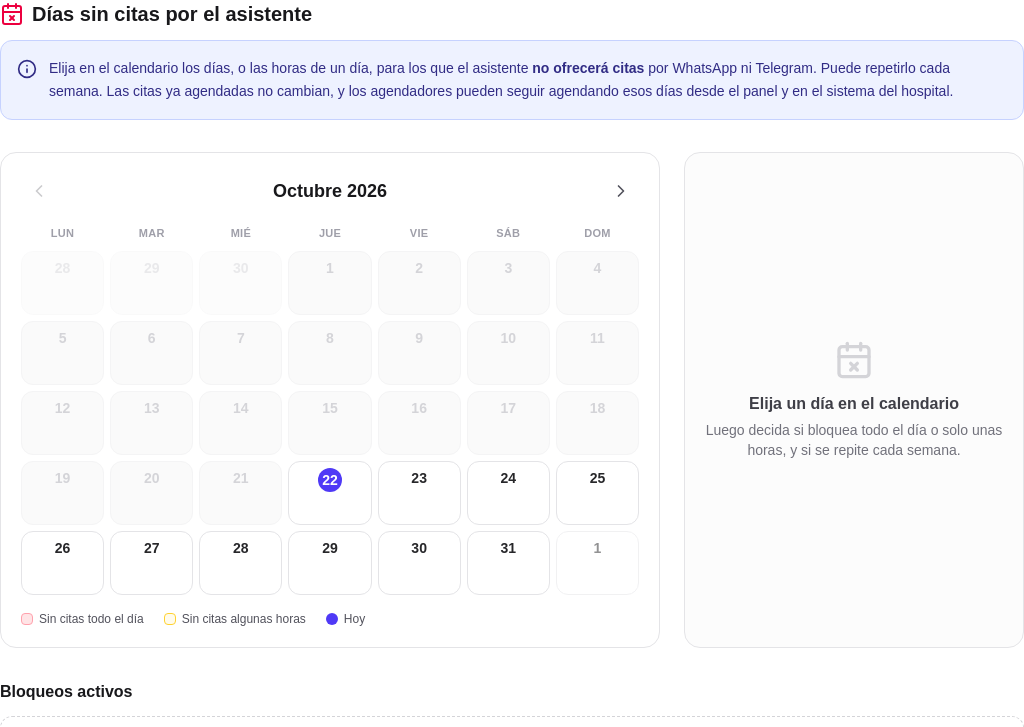
Test: BloqueosAgenda — Configuración › Días sin citas › unas horas al revés: avisa y no deja guardar
The width and height of the screenshot is (1024, 727).
Click the button "23".
click(419, 493)  # box [378,461,461,525]
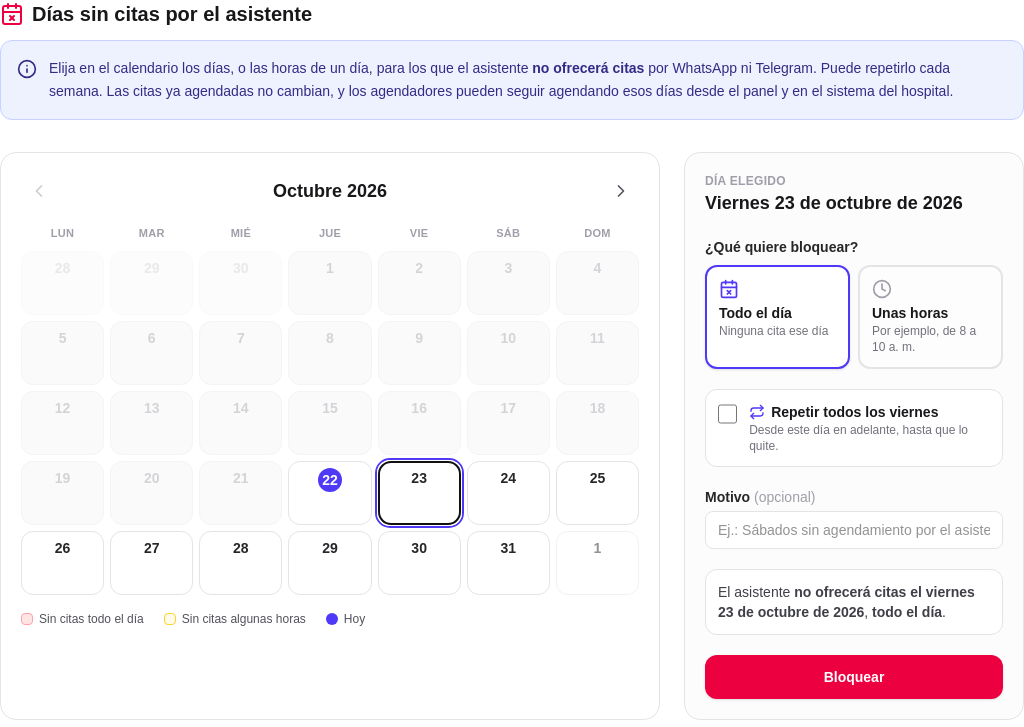
Click the radio button labelled "Unas horas Por ejemplo, de 8 a 10 a. m.".
click(930, 316)  # box [858,264,1003,368]
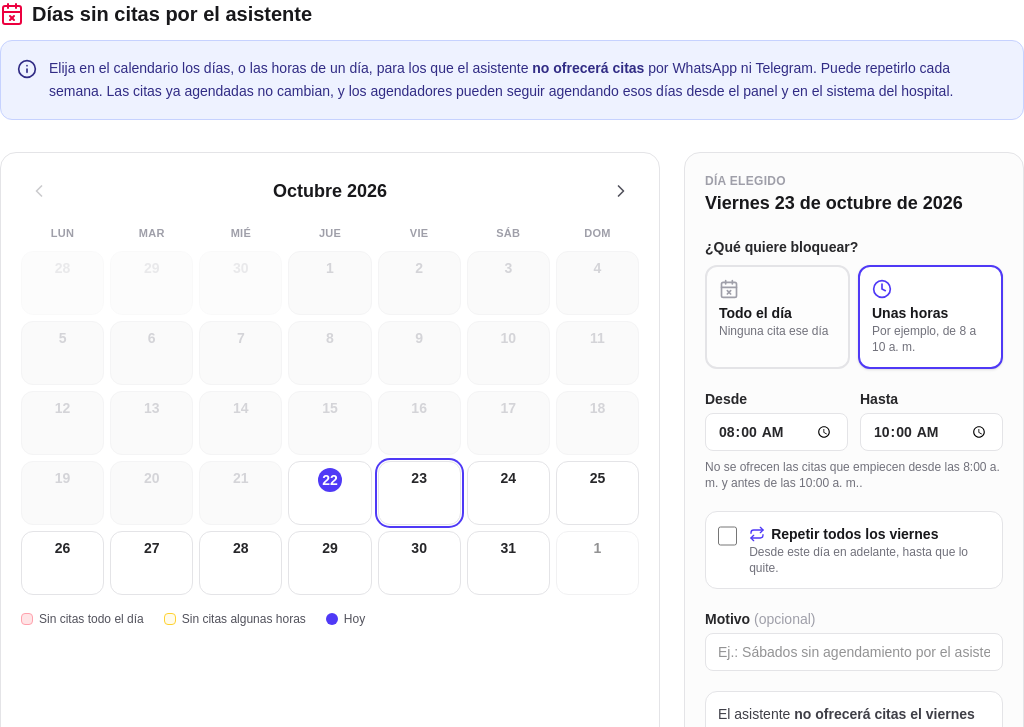
Replace the text in the time field labelled "Hasta" with "07:00" at (932, 432), box [860,412,1003,451]
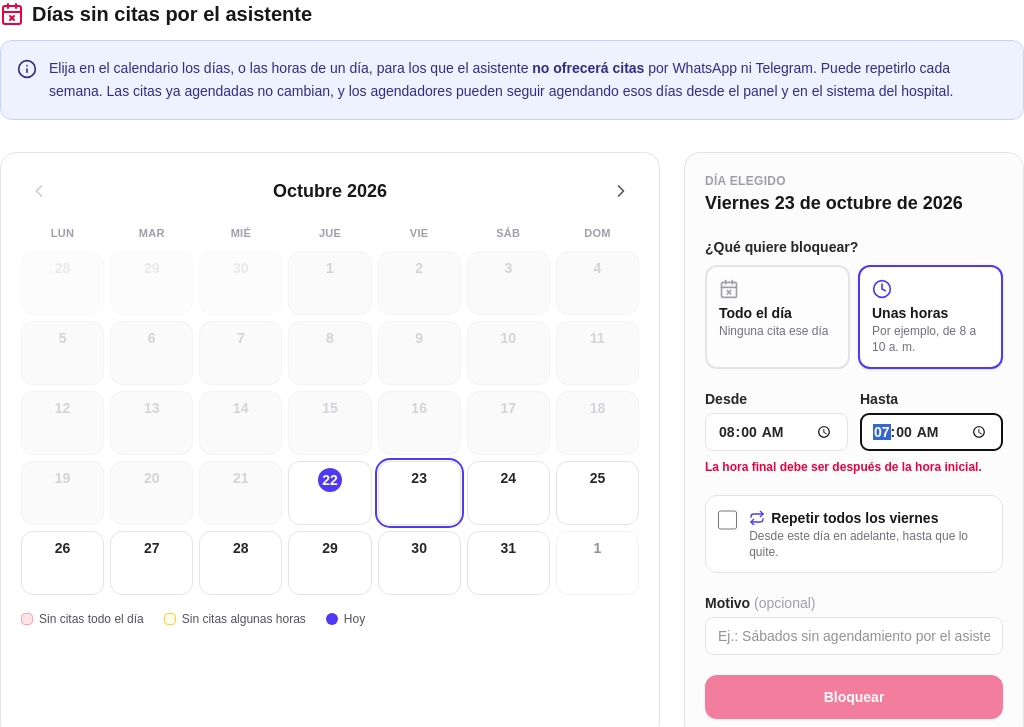
Result: the button "Bloquear" is disabled at [705,675,1003,719]
Result: the text "La hora final debe ser después de la hora inicial." is shown at [705,459,1003,475]
